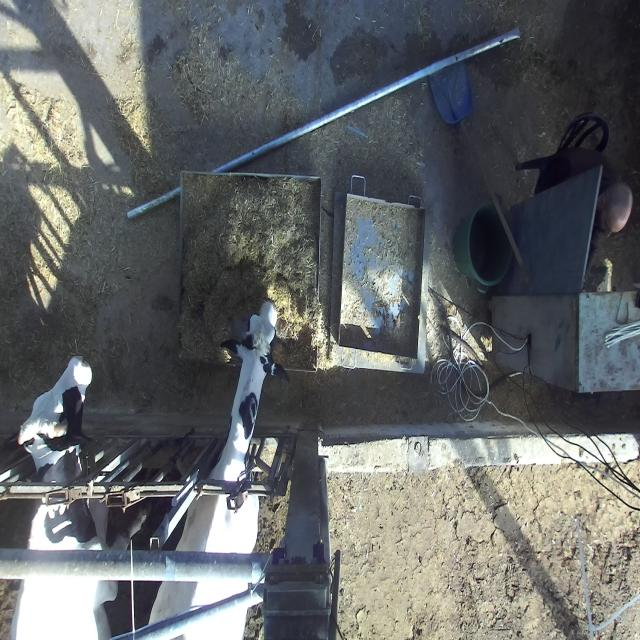cow: (0, 350, 95, 470), (219, 301, 291, 387)
